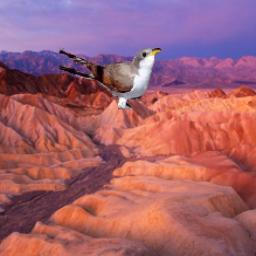Cuckoo: (61, 48, 162, 110)
